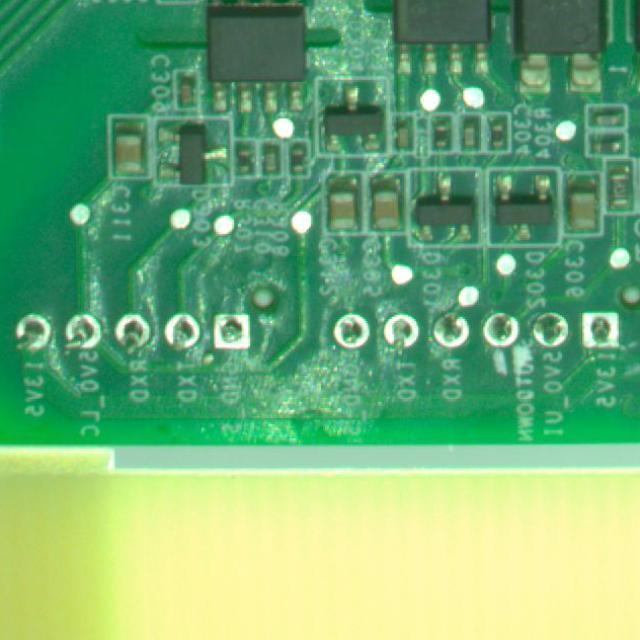Insufficient solder: (7, 300, 50, 360), (530, 294, 572, 352), (433, 304, 474, 356), (578, 300, 618, 352), (64, 300, 100, 356), (213, 304, 253, 354), (115, 300, 150, 356), (384, 300, 420, 354), (337, 304, 373, 352), (167, 301, 198, 354), (484, 302, 517, 350)
